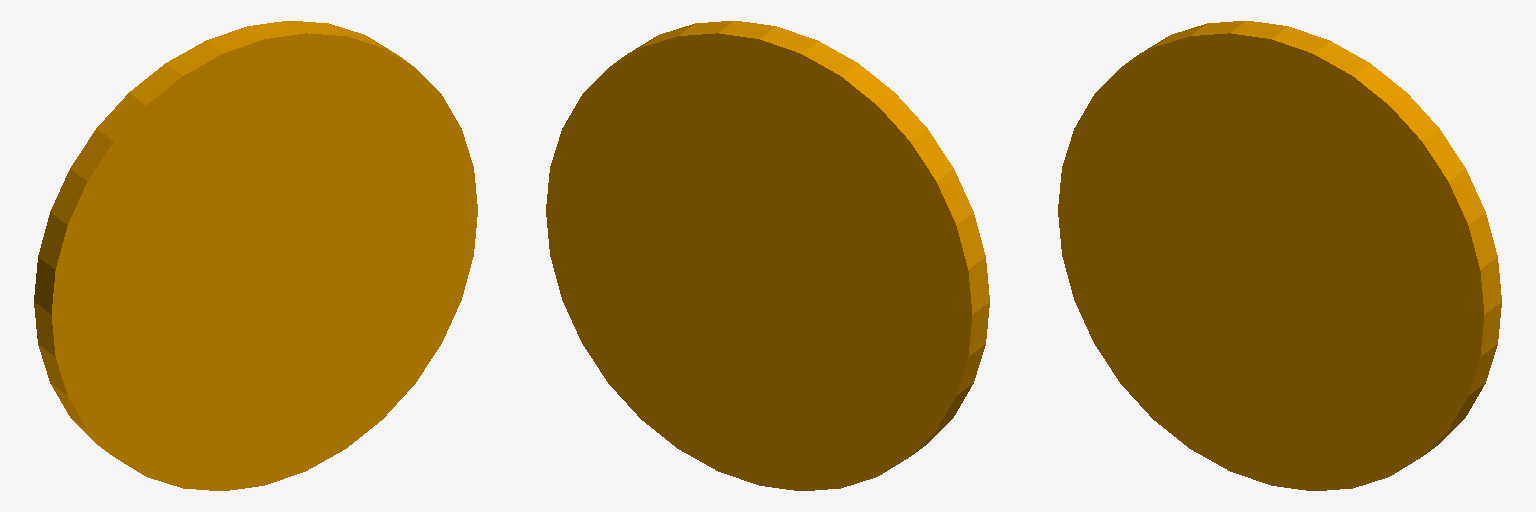
URDF robot description (ur5e):
<?xml version="1.0" encoding="utf-8"?>
<!-- =================================================================================== -->
<!-- |    This document was autogenerated by xacro from ur5e_robot.urdf.xacro          | -->
<!-- |    EDITING THIS FILE BY HAND IS NOT RECOMMENDED                                 | -->
<!-- =================================================================================== -->
<robot name="ur5e" xmlns:xacro="http://ros.org/wiki/xacro">

  <material name="black">
    <color rgba="0 0 0 1"/>
  </material>
  <material name="gray">
    <color rgba="0.1 0.1 0.1 1"/>
  </material>
  <material name="lightgray">
    <color rgba="0.8 0.8 0.8 1"/>
  </material>

  <!-- Base Link -->
  <link name="base_link">
    <visual>
      <geometry>
        <mesh filename="package://hand/urdf/meshes/ur5e/visual/base.dae"/>
      </geometry>
      <material name="LightGrey">
        <color rgba="0.7 0.7 0.7 1.0"/>
      </material>
    </visual>
    <collision>
      <geometry>
        <mesh filename="package://hand/urdf/meshes/ur5e/collision/base.stl" scale="1.0 1.0 1.0"/>
      </geometry>
    </collision>
    <inertial>
      <mass value="4.0"/>
      <origin rpy="0 0 0" xyz="0.0 0.0 0.0"/>
      <inertia ixx="0.00443333156" ixy="0.0" ixz="0.0" iyy="0.00443333156" iyz="0.0" izz="0.0072"/>
    </inertial>
  </link>
  <joint name="shoulder_pan_joint" type="revolute">
    <parent link="base_link"/>
    <child link="shoulder_link"/>
    <origin rpy="0.0 0.0 0.0" xyz="0.0 0.0 0.163"/>
    <axis xyz="0 0 1"/>
    <limit effort="150.0" lower="-6.28318530718" upper="6.28318530718" velocity="3.14"/>
    <dynamics damping="0.0" friction="0.0"/>
  </joint>
  <link name="shoulder_link">
    <visual>
      <geometry>
        <mesh filename="package://hand/urdf/meshes/ur5e/visual/shoulder.dae"/>
      </geometry>
      <material name="LightGrey">
        <color rgba="0.7 0.7 0.7 1.0"/>
      </material>
    </visual>
    <collision>
      <geometry>
        <mesh filename="package://hand/urdf/meshes/ur5e/collision/shoulder.stl" scale="1.0 1.0 1.0"/>
      </geometry>
    </collision>
    <inertial>
      <mass value="3.7"/>
      <origin rpy="0 0 0" xyz="0.0 0.0 0.0"/>
      <inertia ixx="0.010267495893" ixy="0.0" ixz="0.0" iyy="0.010267495893" iyz="0.0" izz="0.00666"/>
    </inertial>
  </link>
  <joint name="shoulder_lift_joint" type="revolute">
    <parent link="shoulder_link"/>
    <child link="upper_arm_link"/>
    <origin rpy="0.0 1.57079632679 0.0" xyz="0.0 0.138 0.0"/>
    <axis xyz="0 1 0"/>
    <limit effort="150.0" lower="-6.28318530718" upper="6.28318530718" velocity="3.14"/>
    <dynamics damping="0.0" friction="0.0"/>
  </joint>
  <link name="upper_arm_link">
    <visual>
      <geometry>
        <mesh filename="package://hand/urdf/meshes/ur5e/visual/upperarm.dae"/>
      </geometry>
      <material name="LightGrey">
        <color rgba="0.7 0.7 0.7 1.0"/>
      </material>
    </visual>
    <collision>
      <geometry>
        <mesh filename="package://hand/urdf/meshes/ur5e/collision/upperarm.stl" scale="1.0 1.0 1.0"/>
      </geometry>
    </collision>
    <inertial>
      <mass value="8.393"/>
      <origin rpy="0 0 0" xyz="0.0 0.0 0.2125"/>
      <inertia ixx="0.133885781862" ixy="0.0" ixz="0.0" iyy="0.133885781862" iyz="0.0" izz="0.0151074"/>
    </inertial>
  </link>
  <joint name="elbow_joint" type="revolute">
    <parent link="upper_arm_link"/>
    <child link="forearm_link"/>
    <origin rpy="0.0 0.0 0.0" xyz="0.0 -0.131 0.425"/>
    <axis xyz="0 1 0"/>
    <limit effort="150.0" lower="-3.14159265359" upper="3.14159265359" velocity="3.14"/>
    <dynamics damping="0.0" friction="0.0"/>
  </joint>
  <link name="forearm_link">
    <visual>
      <geometry>
        <mesh filename="package://hand/urdf/meshes/ur5e/visual/forearm.dae"/>
      </geometry>
      <material name="LightGrey">
        <color rgba="0.7 0.7 0.7 1.0"/>
      </material>
    </visual>
    <collision>
      <geometry>
        <mesh filename="package://hand/urdf/meshes/ur5e/collision/forearm.stl" scale="1.0 1.0 1.0"/>
      </geometry>
    </collision>
    <inertial>
      <mass value="2.275"/>
      <origin rpy="0 0 0" xyz="0.0 0.0 0.196"/>
      <inertia ixx="0.0311796208615" ixy="0.0" ixz="0.0" iyy="0.0311796208615" iyz="0.0" izz="0.004095"/>
    </inertial>
  </link>
  <joint name="wrist_1_joint" type="revolute">
    <parent link="forearm_link"/>
    <child link="wrist_1_link"/>
    <origin rpy="0.0 1.57079632679 0.0" xyz="0.0 0.0 0.392"/>
    <axis xyz="0 1 0"/>
    <limit effort="28.0" lower="-6.28318530718" upper="6.28318530718" velocity="6.28"/>
    <dynamics damping="0.0" friction="0.0"/>
  </joint>
  <link name="wrist_1_link">
    <visual>
      <geometry>
        <mesh filename="package://hand/urdf/meshes/ur5e/visual/wrist1.dae"/>
      </geometry>
      <material name="LightGrey">
        <color rgba="0.7 0.7 0.7 1.0"/>
      </material>
    </visual>
    <collision>
      <geometry>
        <mesh filename="package://hand/urdf/meshes/ur5e/collision/wrist1.stl" scale="1.0 1.0 1.0"/>
      </geometry>
    </collision>
    <inertial>
      <mass value="1.219"/>
      <origin rpy="0 0 0" xyz="0.0 0.127 0.0"/>
      <inertia ixx="0.00255989897604" ixy="0.0" ixz="0.0" iyy="0.00255989897604" iyz="0.0" izz="0.0021942"/>
    </inertial>
  </link>
  <joint name="wrist_2_joint" type="revolute">
    <parent link="wrist_1_link"/>
    <child link="wrist_2_link"/>
    <origin rpy="0.0 0.0 0.0" xyz="0.0 0.127 0.0"/>
    <axis xyz="0 0 1"/>
    <limit effort="28.0" lower="-6.28318530718" upper="6.28318530718" velocity="6.28"/>
    <dynamics damping="0.0" friction="0.0"/>
  </joint>
  <link name="wrist_2_link">
    <visual>
      <geometry>
        <mesh filename="package://hand/urdf/meshes/ur5e/visual/wrist2.dae"/>
      </geometry>
      <material name="LightGrey">
        <color rgba="0.7 0.7 0.7 1.0"/>
      </material>
    </visual>
    <collision>
      <geometry>
        <mesh filename="package://hand/urdf/meshes/ur5e/collision/wrist2.stl" scale="1.0 1.0 1.0"/>
      </geometry>
    </collision>
    <inertial>
      <mass value="1.219"/>
      <origin rpy="0 0 0" xyz="0.0 0.0 0.1"/>
      <inertia ixx="0.00255989897604" ixy="0.0" ixz="0.0" iyy="0.00255989897604" iyz="0.0" izz="0.0021942"/>
    </inertial>
  </link>
  <joint name="wrist_3_joint" type="revolute">
    <parent link="wrist_2_link"/>
    <child link="wrist_3_link"/>
    <origin rpy="0.0 0.0 0.0" xyz="0.0 0.0 0.1"/>
    <axis xyz="0 1 0"/>
    <limit effort="28.0" lower="-6.28318530718" upper="6.28318530718" velocity="6.28"/>
    <dynamics damping="0.0" friction="0.0"/>
  </joint>
  <link name="wrist_3_link">
    <visual>
      <geometry>
        <mesh filename="package://hand/urdf/meshes/ur5e/visual/wrist3.dae"/>
      </geometry>
      <material name="LightGrey">
        <color rgba="0.7 0.7 0.7 1.0"/>
      </material>
    </visual>
    <collision>
      <geometry>
        <mesh filename="package://hand/urdf/meshes/ur5e/collision/wrist3.stl" scale="1.0 1.0 1.0"/>
      </geometry>
    </collision>
    <inertial>
      <mass value="0.1879"/>
      <origin rpy="1.57079632679 0 0" xyz="0.0 0.0771 0.0"/>
      <inertia ixx="9.89041005217e-05" ixy="0.0" ixz="0.0" iyy="9.89041005217e-05" iyz="0.0" izz="0.0001321171875"/>
    </inertial>
  </link>
  <joint name="ee_fixed_joint" type="fixed">
    <parent link="wrist_3_link"/>
    <child link="ee_link"/>
    <origin rpy="0.0 0.0 1.57079632679" xyz="0.0 0.1 0.0"/>
  </joint>
  <link name="ee_link">
    <collision>
      <geometry>
        <box size="0.01 0.01 0.01"/>
      </geometry>
      <origin rpy="0 0 0" xyz="-0.01 0 0"/>
    </collision>
  </link>

<!-- Hand Plate -->
  <link name="hand_plate">
    <visual>
      <origin xyz="0 0 0" rpy="0 0 0" />
      <geometry>
        <cylinder radius="0.14" length="0.02" />
      </geometry>
    </visual>
    <collision>
      <origin xyz="0 0 0" rpy="0 0 0" />
      <geometry>
        <cylinder radius="0.14" length="0.02" />
      </geometry>
    </collision>
  </link>
  <joint name="hand_plate_joint" type="fixed">
    <origin xyz="0 0 0" rpy="0.0 1.57079632679 0.0" />
    <parent link="ee_link" />
    <child link="hand_plate" />
  </joint>

  <!-- Finger 1 -->
  <link name="finger1_proximal">
    <visual>
      <origin rpy="0 0 0" xyz="0 0 0" />
      <geometry>
        <mesh filename="package://hand/urdf/meshes/visual/proximal.dae"/>
      </geometry>
      <material name="gray"/>
    </visual>
    <collision>
      <origin rpy="0 0 0" xyz="0 0 0" />
      <geometry>
        <mesh filename="package://hand/urdf/meshes/collision/proximal.obj"/>
      </geometry>
    </collision>
    <inertial>
      <mass value="0.09313"/>
    </inertial>
  </link>
  <link name="finger1_middle">
    <visual>
      <origin rpy="0 0 0" xyz="0 0 0" />
      <geometry>
        <mesh filename="package://hand/urdf/meshes/visual/middle.dae"/>
      </geometry>
      <material name="gray"/>
    </visual>
    <collision>
      <origin rpy="0 0 0" xyz="0 0 0" />
      <geometry>
        <mesh filename="package://hand/urdf/meshes/collision/middle.obj"/>
      </geometry>
    </collision>
    <inertial>
      <mass value="0.09930"/>
    </inertial>
  </link>
  <link name="finger1_distal">
    <visual>
      <origin rpy="0 3.14159265359 0" xyz="0 0 0"/>
      <geometry>
        <mesh filename="package://hand/urdf/meshes/visual/distal.dae"/>
      </geometry>
      <material name="lightgray"/>
    </visual>
    <collision name="tip">
      <origin rpy="-1.57079633 1.57079633 0" xyz="0.0 0.1043 0.0"/>
      <geometry>
        <sphere radius="0.019"/>
      </geometry>
    </collision>
    <collision name="body">
      <origin rpy="-1.57079633 1.57079633 0" xyz="0 0.06358 0.0"/>
      <geometry>
        <cylinder length="0.0815" radius="0.019"/>
      </geometry>
    </collision>
    <inertial>
      <mass value="0.09268"/>
      <inertia ixx="0.01" ixy="0.00" ixz="0.00" iyy="0.01" iyz="0.0" izz="0.01"/>
      <!-- inertia is recomputed when loading asset  -->
    </inertial>
  </link>
  <link name="finger1_distal_tip">
  </link>
  <joint name="finger1_proximal_joint" type="revolute">
    <parent link="hand_plate"/>
    <child link="finger1_proximal"/>
    <origin rpy="1.5707963267948966 0 -1.5707963267948966" xyz="-0.110 0.0 0.0"/>
    <axis xyz="0 1 0"/>
    <limit effort="4" velocity="1.0" lower="-1.0" upper="1.0"/>
  </joint>
  <joint name="finger1_middle_joint" type="revolute">
    <parent link="finger1_proximal"/>
    <child link="finger1_middle"/>
    <origin rpy="0 0 0" xyz="0 0.0655 0"/>
    <axis xyz="-1 0 0"/>
    <limit effort="4" velocity="1.0" lower="0.0" upper="1.0"/>
  </joint>
  <joint name="finger1_distal_joint" type="revolute">
    <parent link="finger1_middle"/>
    <child link="finger1_distal"/>
    <origin rpy="0 0 0" xyz="0 0.069 0"/>
    <axis xyz="-1 0 0"/>
    <limit effort="4" velocity="1.0" lower="0.0" upper="1.0"/>
  </joint>
  <joint name="finger1_distal_tip_joint" type="fixed">
    <parent link="finger1_distal"/>
    <child link="finger1_distal_tip"/>
    <origin rpy="-1.57079633 1.57079633 0" xyz="0.0 0.1035 0.0"/>
  </joint>


  <!-- Finger 2 -->
  <link name="finger2_proximal">
    <visual>
      <origin rpy="0 0 0" xyz="0 0 0" />
      <geometry>
        <mesh filename="package://hand/urdf/meshes/visual/proximal.dae"/>
      </geometry>
      <material name="gray"/>
    </visual>
    <collision>
      <origin rpy="0 0 0" xyz="0 0 0" />
      <geometry>
        <mesh filename="package://hand/urdf/meshes/collision/proximal.obj"/>
      </geometry>
    </collision>
    <inertial>
      <mass value="0.09313"/>
    </inertial>
  </link>
  <link name="finger2_middle">
    <visual>
      <origin rpy="0 0 0" xyz="0 0 0" />
      <geometry>
        <mesh filename="package://hand/urdf/meshes/visual/middle.dae"/>
      </geometry>
      <material name="gray"/>
    </visual>
    <collision>
      <origin rpy="0 0 0" xyz="0 0 0" />
      <geometry>
        <mesh filename="package://hand/urdf/meshes/collision/middle.obj"/>
      </geometry>
    </collision>
    <inertial>
      <mass value="0.09930"/>
    </inertial>
  </link>
  <link name="finger2_distal">
    <visual>
      <origin rpy="0 3.14159265359 0" xyz="0 0 0" />
      <geometry>
        <mesh filename="package://hand/urdf/meshes/visual/distal.dae"/>
      </geometry>
      <material name="lightgray"/>
    </visual>
    <collision name="tip">
      <origin rpy="-1.57079633 1.57079633 0" xyz="0.0 0.1043 0.0"/>
      <geometry>
        <sphere radius="0.019"/>
      </geometry>
    </collision>
    <collision name="body">
      <origin rpy="-1.57079633 1.57079633 0" xyz="0 0.06358 0.0"/>
      <geometry>
        <cylinder length="0.0815" radius="0.019"/>
      </geometry>
    </collision>
    <inertial>
      <mass value="0.09268"/>
      <inertia ixx="0.01" ixy="0.00" ixz="0.00" iyy="0.01" iyz="0.0" izz="0.01"/>
      <!-- inertia is recomputed when loading asset  -->
    </inertial>
  </link>
  <link name="finger2_distal_tip">
  </link>
  <joint name="finger2_proximal_joint" type="revolute">
    <parent link="hand_plate"/>
    <child link="finger2_proximal"/>
    <origin rpy="1.5707963267948966 0 2.35" xyz="0.077 0.077 0.0"/>
    <axis xyz="0 1 0"/>
    <limit effort="4" velocity="1.0" lower="-1.0" upper="1.0"/>
  </joint>
  <joint name="finger2_middle_joint" type="revolute">
    <parent link="finger2_proximal"/>
    <child link="finger2_middle"/>
    <origin rpy="0 0 0" xyz="0 0.0655 0"/>
    <axis xyz="-1 0 0"/>
    <limit effort="4" velocity="1.0" lower="0.0" upper="1.0"/>
  </joint>
  <joint name="finger2_distal_joint" type="revolute">
    <parent link="finger2_middle"/>
    <child link="finger2_distal"/>
    <origin rpy="0 0 0" xyz="0 0.069 0"/>
    <axis xyz="-1 0 0"/>
    <limit effort="4" velocity="1.0" lower="0.0" upper="1.0"/>
  </joint>
  <joint name="finger2_distal_tip_joint" type="fixed">
    <parent link="finger2_distal"/>
    <child link="finger2_distal_tip"/>
    <origin rpy="-1.57079633 1.57079633 0" xyz="0.0 0.1035 0.0"/>
  </joint>


  <!-- Finger 3 -->
  <link name="finger3_proximal">
     <visual>
      <origin rpy="0 0 0" xyz="0 0 0" />
      <geometry>
        <mesh filename="package://hand/urdf/meshes/visual/proximal.dae"/>
      </geometry>
      <material name="gray"/>
    </visual>
    <collision>
      <origin rpy="0 0 0" xyz="0 0 0" />
      <geometry>
        <mesh filename="package://hand/urdf/meshes/collision/proximal.obj"/>
      </geometry>
    </collision>
     <inertial>
      <mass value="0.09313"/>
    </inertial>
  </link>
  <link name="finger3_middle">
    <visual>
      <origin rpy="0 0 0" xyz="0 0 0" />
      <geometry>
        <mesh filename="package://hand/urdf/meshes/visual/middle.dae"/>
      </geometry>
      <material name="gray"/>
    </visual>
    <collision>
      <origin rpy="0 0 0" xyz="0 0 0" />
      <geometry>
        <mesh filename="package://hand/urdf/meshes/collision/middle.obj"/>
      </geometry>
    </collision>
    <inertial>
      <mass value="0.09930"/>
    </inertial>
  </link>
  <link name="finger3_distal">
    <visual>
      <origin rpy="0 3.14159265359 0" xyz="0 0 0" />
      <geometry>
        <mesh filename="package://hand/urdf/meshes/visual/distal.dae"/>
      </geometry>
      <material name="lightgray"/>
    </visual>
    <collision name="tip">
      <origin rpy="-1.57079633 1.57079633 0" xyz="0.0 0.1043 0.0"/>
      <geometry>
        <sphere radius="0.019"/>
      </geometry>
    </collision>
    <collision name="body">
      <origin rpy="-1.57079633 1.57079633 0" xyz="0 0.06358 0.0"/>
      <geometry>
        <cylinder length="0.0815" radius="0.019"/>
      </geometry>
    </collision>
    <inertial>
      <mass value="0.09268"/>
      <inertia ixx="0.01" ixy="0.00" ixz="0.00" iyy="0.01" iyz="0.0" izz="0.01"/>
      <!-- inertia is recomputed when loading asset  -->
    </inertial>
  </link>
  <link name="finger3_distal_tip">
  </link>
  <joint name="finger3_proximal_joint" type="revolute">
    <parent link="hand_plate"/>
    <child link="finger3_proximal"/>
    <origin rpy="1.5707963267948966 0 1.57" xyz="0.110  0.0  0.0"/>
    <axis xyz="0 1 0"/>
    <limit effort="4" velocity="1.0" lower="-1.0" upper="1.0"/>
  </joint>
  <joint name="finger3_middle_joint" type="revolute">
    <parent link="finger3_proximal"/>
    <child link="finger3_middle"/>
    <origin rpy="0 0 0" xyz="0 0.0655 0"/>
    <axis xyz="-1 0 0"/>
    <limit effort="4" velocity="1.0" lower="0.0" upper="1.0"/>
  </joint>
  <joint name="finger3_distal_joint" type="revolute">
    <parent link="finger3_middle"/>
    <child link="finger3_distal"/>
    <origin rpy="0 0 0" xyz="0 0.069 0"/>
    <axis xyz="-1 0 0"/>
    <limit effort="4" velocity="1.0" lower="0.0" upper="1.0"/>
  </joint>
  <joint name="finger3_distal_tip_joint" type="fixed">
    <parent link="finger3_distal"/>
    <child link="finger3_distal_tip"/>
    <origin rpy="-1.57079633 1.57079633 0" xyz="0.0 0.1035 0.0"/>
  </joint>


  <!-- Finger 4 -->
  <link name="finger4_proximal">
     <visual>
      <origin rpy="0 0 0" xyz="0 0 0" />
      <geometry>
        <mesh filename="package://hand/urdf/meshes/visual/proximal.dae"/>
      </geometry>
      <material name="gray"/>
    </visual>
    <collision>
      <origin rpy="0 0 0" xyz="0 0 0" />
      <geometry>
        <mesh filename="package://hand/urdf/meshes/collision/proximal.obj"/>
      </geometry>
    </collision>
    <inertial>
      <mass value="0.09313"/>
    </inertial>
  </link>
  <link name="finger4_middle">
   <visual>
      <origin rpy="0 0 0" xyz="0 0 0" />
      <geometry>
        <mesh filename="package://hand/urdf/meshes/visual/middle.dae"/>
      </geometry>
      <material name="gray"/>
    </visual>
    <collision>
      <origin rpy="0 0 0" xyz="0 0 0" />
      <geometry>
        <mesh filename="package://hand/urdf/meshes/collision/middle.obj"/>
      </geometry>
    </collision>
    <inertial>
      <mass value="0.09930"/>
    </inertial>
  </link>
  <link name="finger4_distal">
    <visual>
      <origin rpy="0 3.14159265359 0" xyz="0 0 0" />
      <geometry>
        <mesh filename="package://hand/urdf/meshes/visual/distal.dae"/>
      </geometry>
      <material name="lightgray"/>
    </visual>
    <collision name="tip">
      <origin rpy="-1.57079633 1.57079633 0" xyz="0.0 0.1043 0.0"/>
      <geometry>
        <sphere radius="0.019"/>
      </geometry>
    </collision>
    <collision name="body">
      <origin rpy="-1.57079633 1.57079633 0" xyz="0 0.06358 0.0"/>
      <geometry>
        <cylinder length="0.0815" radius="0.019"/>
      </geometry>
    </collision>
    <inertial>
      <mass value="0.09268"/>
      <inertia ixx="0.01" ixy="0.00" ixz="0.00" iyy="0.01" iyz="0.0" izz="0.01"/>
      <!-- inertia is recomputed when loading asset  -->
    </inertial>
  </link>
  <link name="finger4_distal_tip">
  </link>
  <joint name="finger4_proximal_joint" type="revolute">
    <parent link="hand_plate"/>
    <child link="finger4_proximal"/>
    <origin rpy="1.5707963267948966 0 0.785" xyz="0.077 -0.077  0.0"/>
    <axis xyz="0 1 0"/>
    <limit effort="4" velocity="1.0" lower="-1.0" upper="1.0"/>
  </joint>
  <joint name="finger4_middle_joint" type="revolute">
    <parent link="finger4_proximal"/>
    <child link="finger4_middle"/>
    <origin rpy="0 0 0" xyz="0 0.0655 0"/>
    <axis xyz="-1 0 0"/>
    <limit effort="4" velocity="1.0" lower="0.0" upper="1.0"/>
  </joint>
  <joint name="finger4_distal_joint" type="revolute">
    <parent link="finger4_middle"/>
    <child link="finger4_distal"/>
    <origin rpy="0 0 0" xyz="0 0.069 0"/>
    <axis xyz="-1 0 0"/>
    <limit effort="4" velocity="1.0" lower="0.0" upper="1.0"/>
  </joint>
  <joint name="finger4_distal_tip_joint" type="fixed">
    <parent link="finger4_distal"/>
    <child link="finger4_distal_tip"/>
    <origin rpy="-1.57079633 1.57079633 0" xyz="0.0 0.1035 0.0"/>
  </joint>



</robot>

--- Facts derived from the render (not from the file) ---
The picture shows the robot from 3 angles, left to right: view 1: azimuth 30°, elevation 25°; view 2: azimuth 150°, elevation 25°; view 3: azimuth 330°, elevation 25°; orthographic projection.
Robot: ur5e — 25 links, 24 joints (18 revolute, 6 fixed); root link base_link; default pose: all joints at 0.
Links seen in each view (by area): view 1: hand_plate; view 2: hand_plate; view 3: hand_plate.
Link boxes in pixels (x1,y1,x2,y2): hand_plate: (34,21,477,490); hand_plate: (546,21,989,490); hand_plate: (1058,21,1501,490).
Bounding box of the posed robot: 0.28 × 0.02 × 0.28 m (x, y, z).
0 mesh visuals loaded from 10 distinct referenced files (none loaded); not drawn: 19 (reference not matched to a file when rendering).